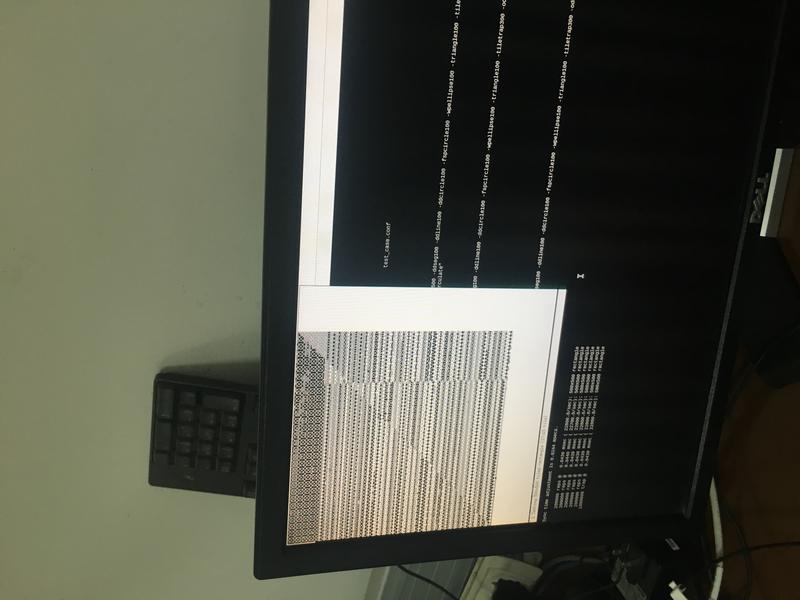xrandr_pass: (281, 278, 567, 549)
